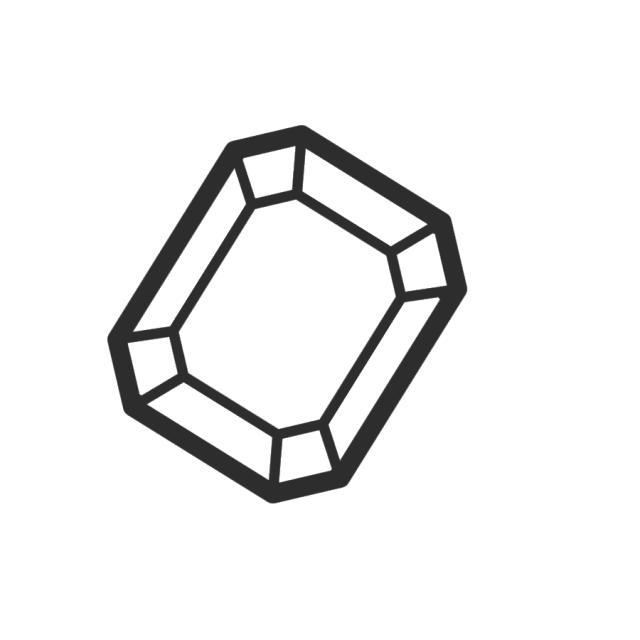emerald: (102, 122, 474, 515)
